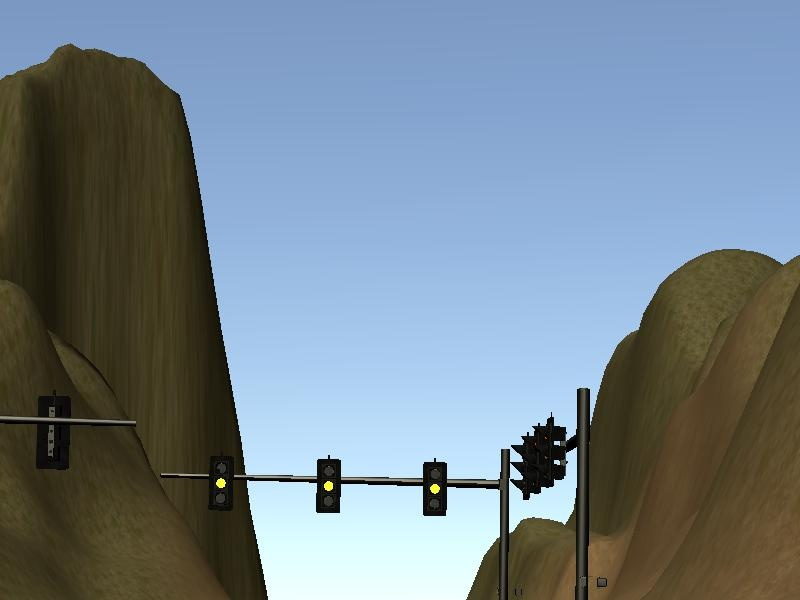yellow: (312, 449, 345, 519), (203, 448, 235, 513), (417, 455, 450, 518)
